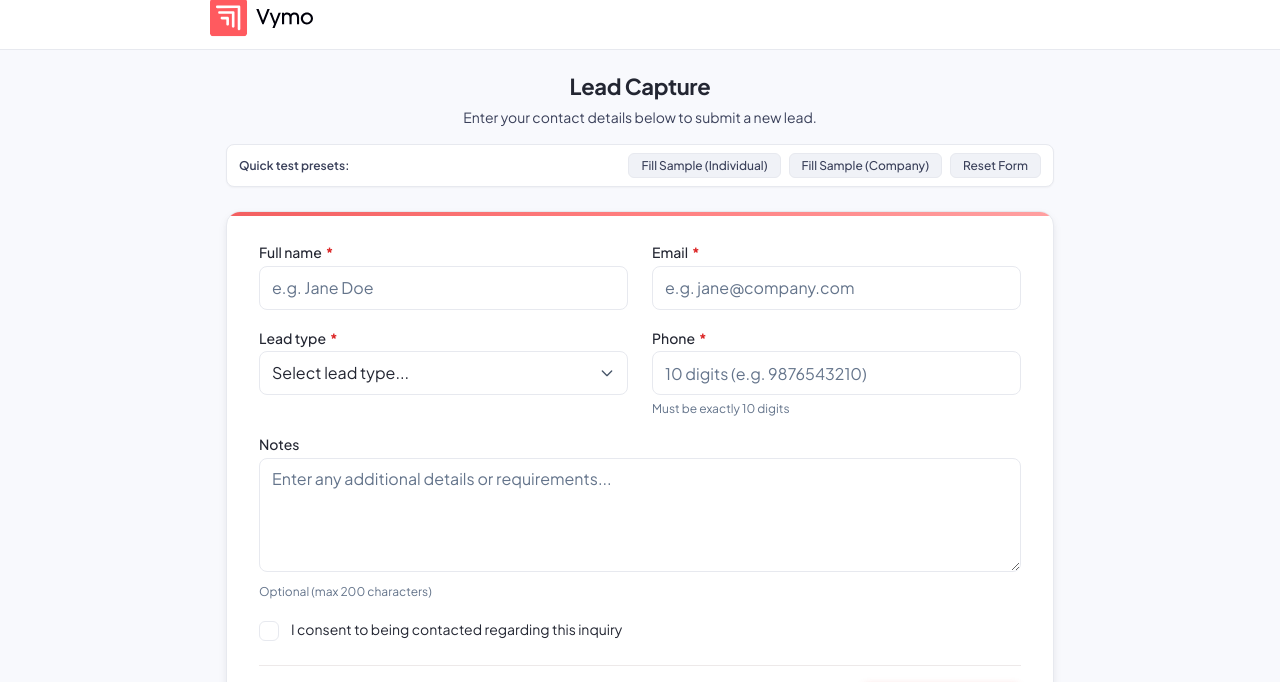
Test: LeadCapturePage › submits successfully when form is valid, logging to console and displaying data on page
// Click quick preset button for Reviewer test
Click the button "Fill Sample (Company)": (865, 166) x1=788 y1=153 x2=942 y2=178
(page scrolled)
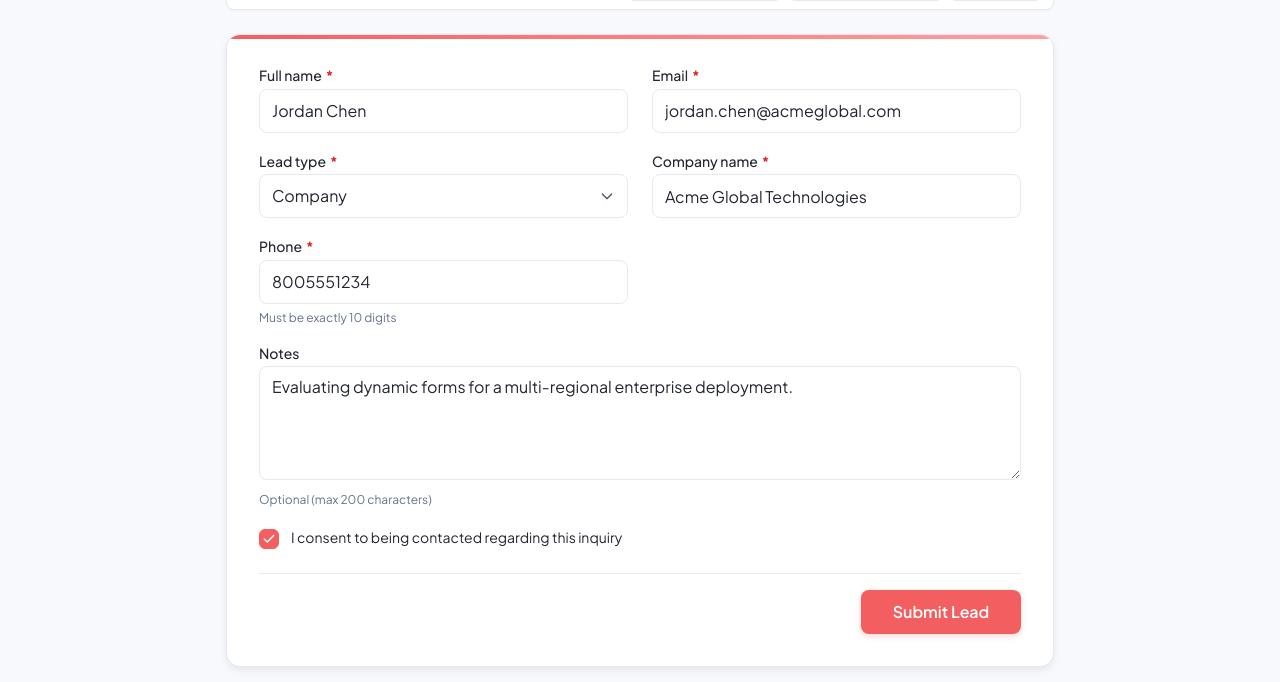
Result: the field labelled "Company name*" holds "Acme Global Technologies" at x1=652 y1=174 x2=1021 y2=218
// Submit the form
Click the button "Submit Lead": (941, 612) x1=861 y1=590 x2=1021 y2=634
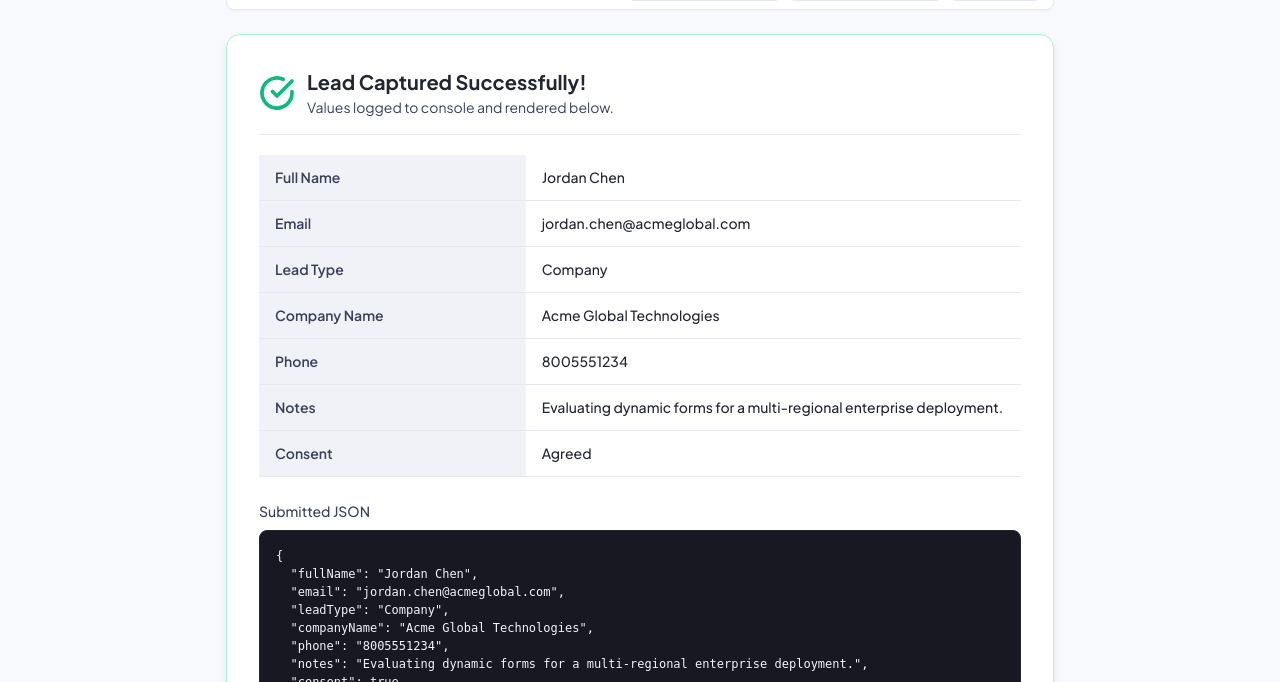
Result: the heading "Lead Captured Successfully!" is shown at x1=307 y1=67 x2=614 y2=97
Result: the text "Acme Global Technologies" is shown at x1=526 y1=292 x2=1021 y2=338
Result: the text "jordan.chen@acmeglobal.com" is shown at x1=526 y1=200 x2=1021 y2=246
